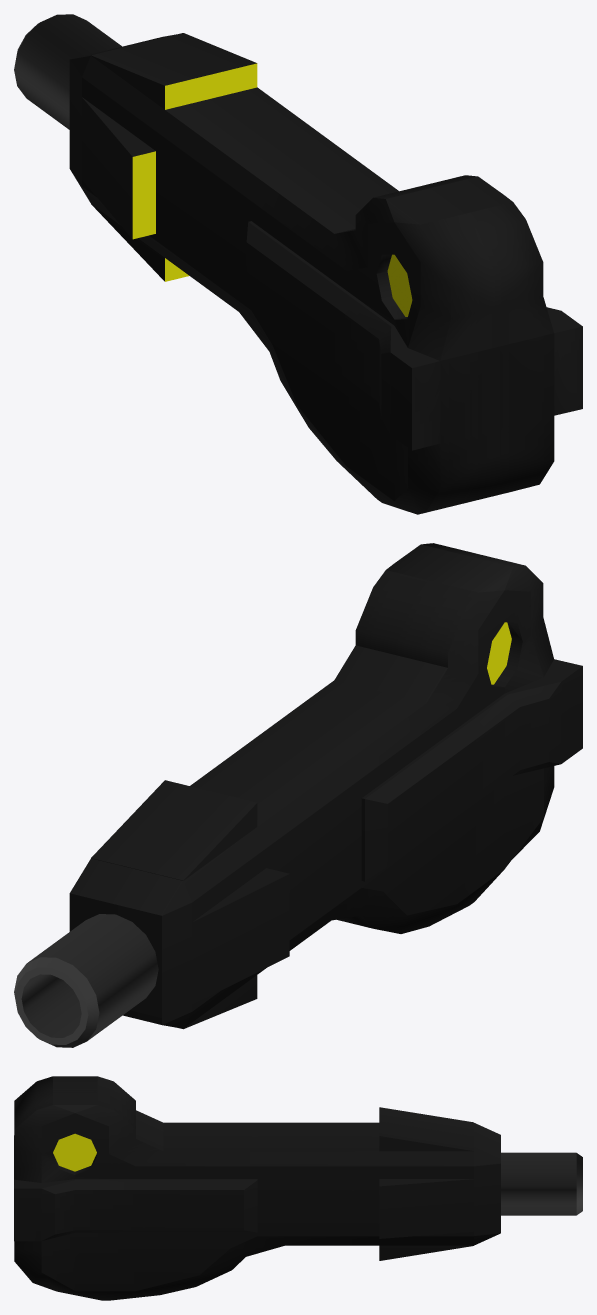
Rendered from Msh_Barrel_Curve.FBX.
The picture shows the model from 3 angles, top to bottom: view 1: azimuth 30°, elevation 25°; view 2: azimuth 150°, elevation 25°; view 3: azimuth 270°, elevation 25°; orthographic projection. The views are drawn at different scales.
Parts seen in each view (by area): view 1: Msh_Barrel_Curve; view 2: Msh_Barrel_Curve; view 3: Msh_Barrel_Curve.
Part boxes in pixels (x1,y1,x2,y2): Msh_Barrel_Curve: (14, 14, 582, 514); Msh_Barrel_Curve: (14, 543, 582, 1047); Msh_Barrel_Curve: (14, 1076, 582, 1300).
Bounding box in the file's own units: 4.75 × 8.14 × 21.44.
